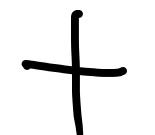plus: (20, 11, 128, 135)
